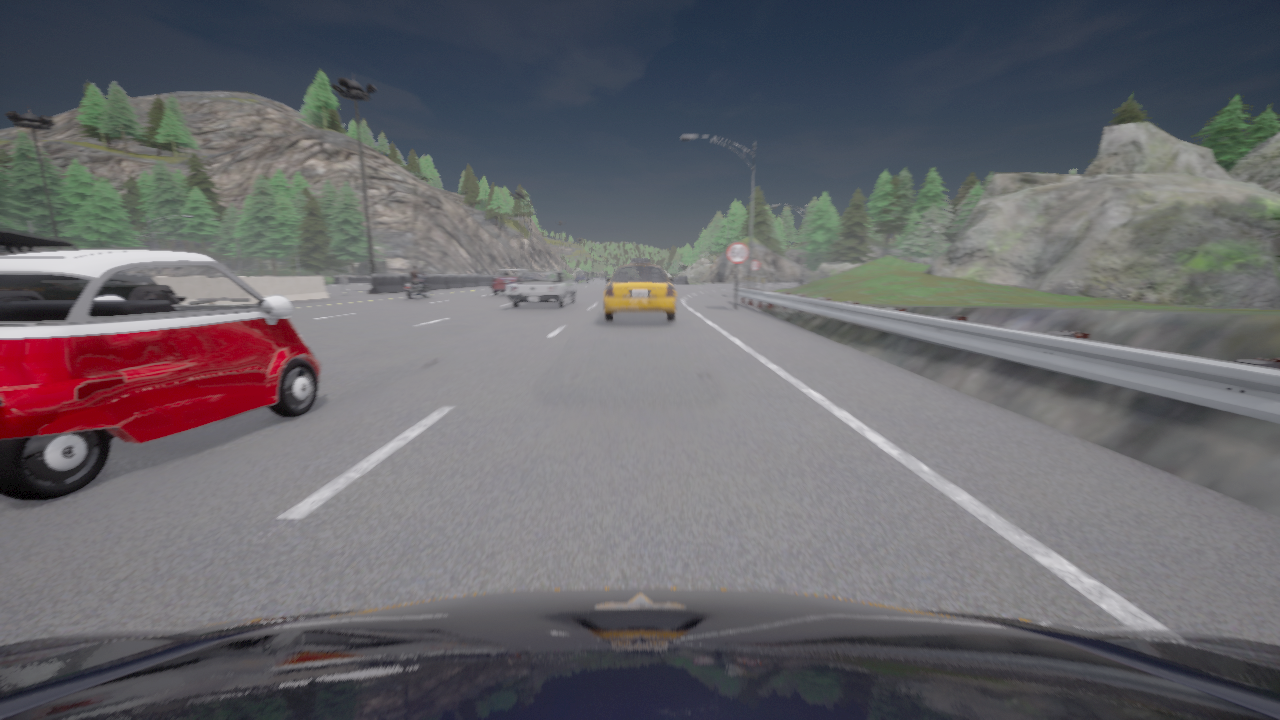cyclist: (0, 588, 1279, 719), (0, 249, 321, 500), (603, 260, 675, 321), (505, 271, 576, 308), (491, 269, 526, 295), (404, 275, 430, 299), (574, 271, 589, 283)
